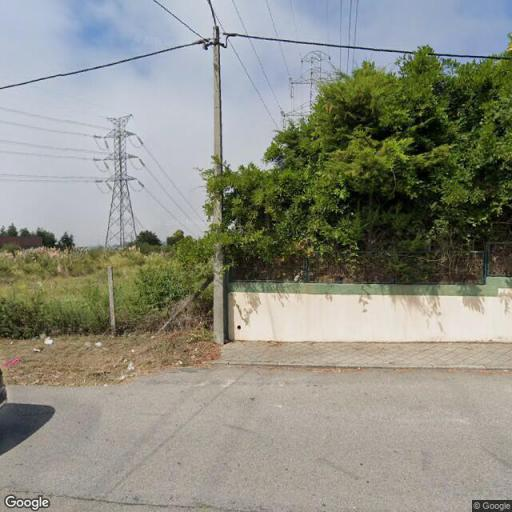ss_3: (96, 111, 146, 245), (282, 47, 350, 122)
